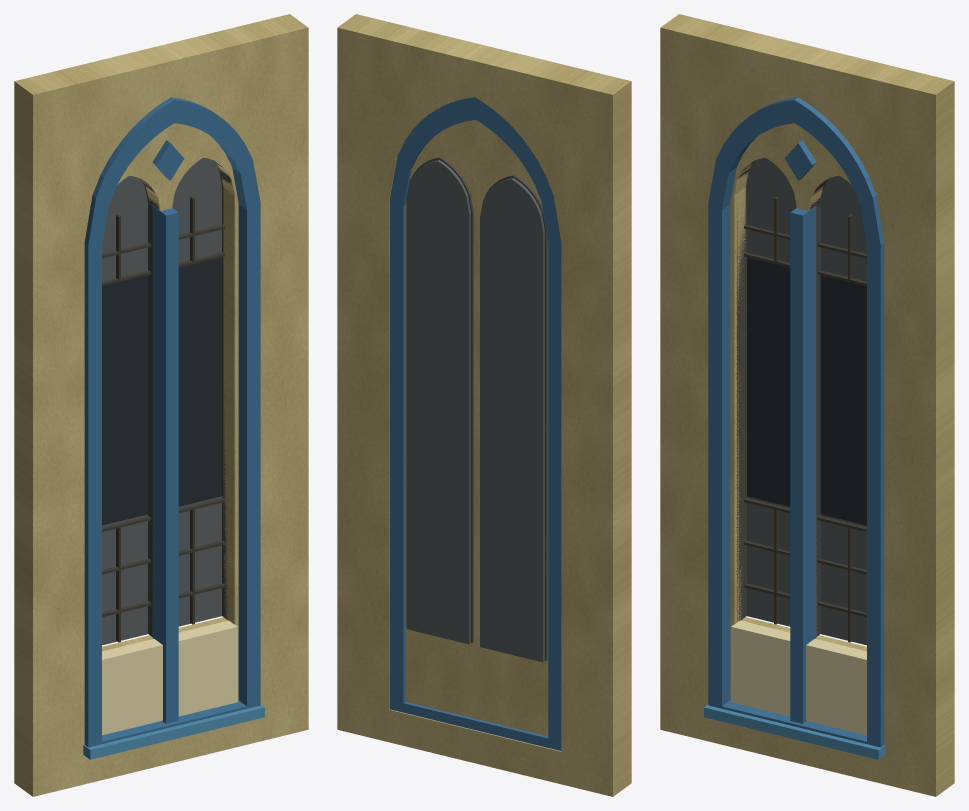
File: canton-baptist-tower-paired-lancets-far.glb
3 views of the same model, side by side, from view 1: azimuth 30°, elevation 25°; view 2: azimuth 150°, elevation 25°; view 3: azimuth 330°, elevation 25° (orthographic).
Visible parts, largest first — view 1: 广东浸信会堂旧址塔楼双联尖券长窗; view 2: 广东浸信会堂旧址塔楼双联尖券长窗; view 3: 广东浸信会堂旧址塔楼双联尖券长窗.
Part boxes in pixels (left/top/right/bottom): 广东浸信会堂旧址塔楼双联尖券长窗: left=14, top=14, right=308, bottom=796; 广东浸信会堂旧址塔楼双联尖券长窗: left=337, top=14, right=631, bottom=796; 广东浸信会堂旧址塔楼双联尖券长窗: left=660, top=14, right=954, bottom=796.
Bounding box in the file's own units: 2.3 × 5.6 × 0.375.
Materials: 8 (1 with a texture image).
